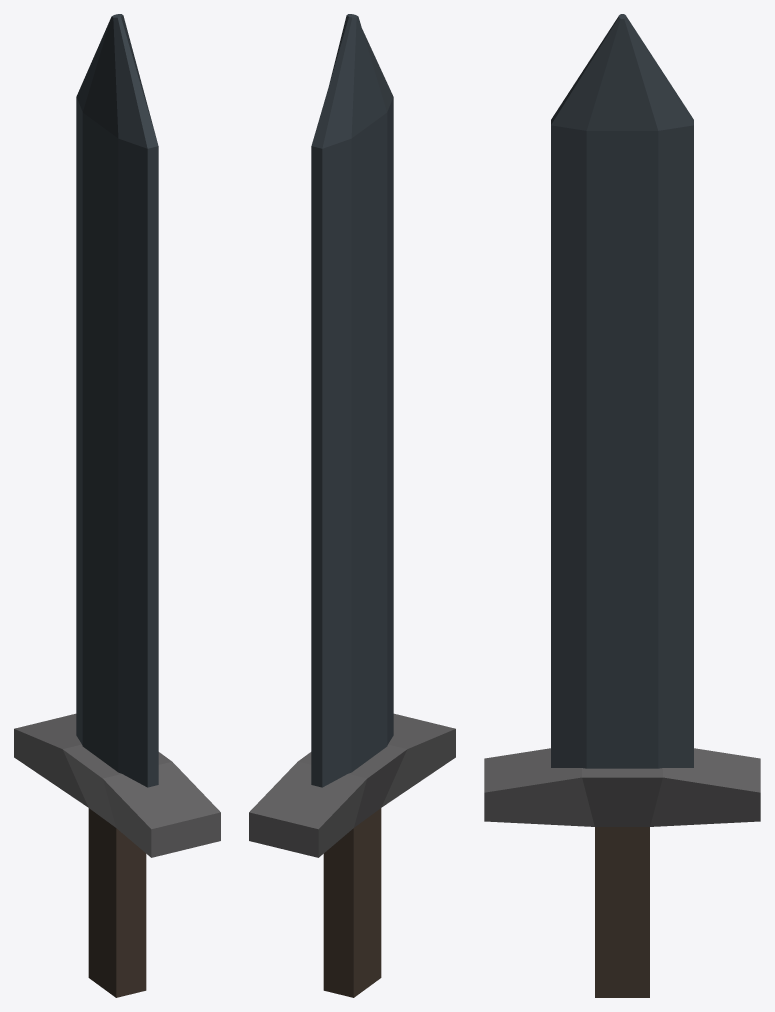
The model's file is kilic.fbx.
3 views of the same model, side by side, from view 1: azimuth 30°, elevation 25°; view 2: azimuth 150°, elevation 25°; view 3: azimuth 270°, elevation 25° (orthographic).
Parts seen in each view (by area): view 1: Cube; view 2: Cube; view 3: Cube.
Boxes of the visible parts, x1,y1,x2,y2 form: Cube: (14,14,220,997); Cube: (249,14,455,997); Cube: (484,14,760,997).
Bounding box in the file's own units: 200 × 2660 × 684.
